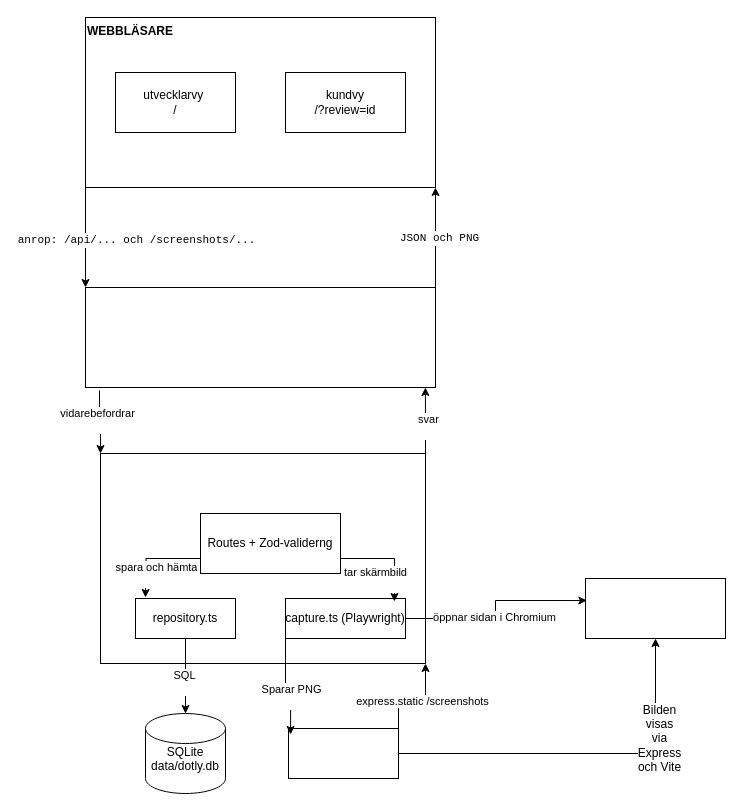
Some shapes in this 743 by 811 pixel diagram are drawn without their labels. Here are the shapes that lost their labels. From the top down, the box of each, then its label:
(84, 286, 436, 388): Vite dev-server Port 5173 Proxy: /api och /screenshots
(100, 452, 426, 664): EXPRESS-SERVER (PORT 3000)
(584, 578, 726, 638): Webbplatsen som granskas (extern URL)
(288, 728, 398, 778): Mapp: screenshots/
